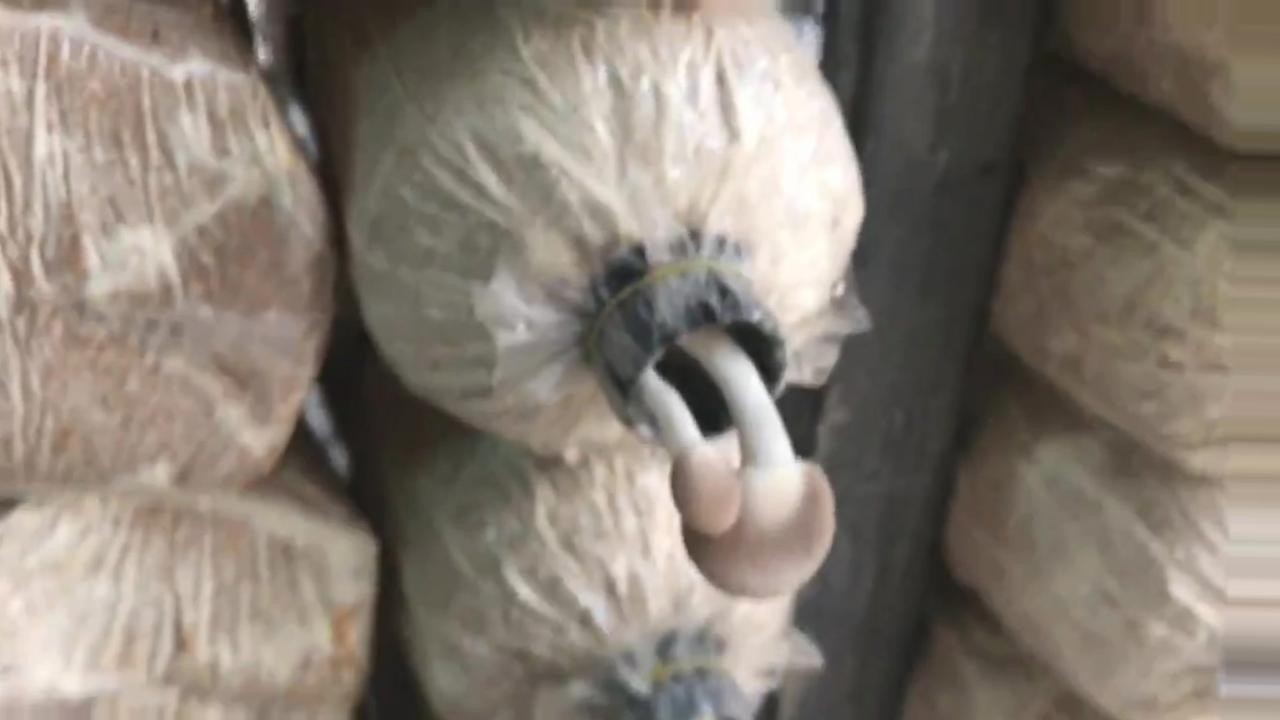nam: (590, 267, 834, 598)
